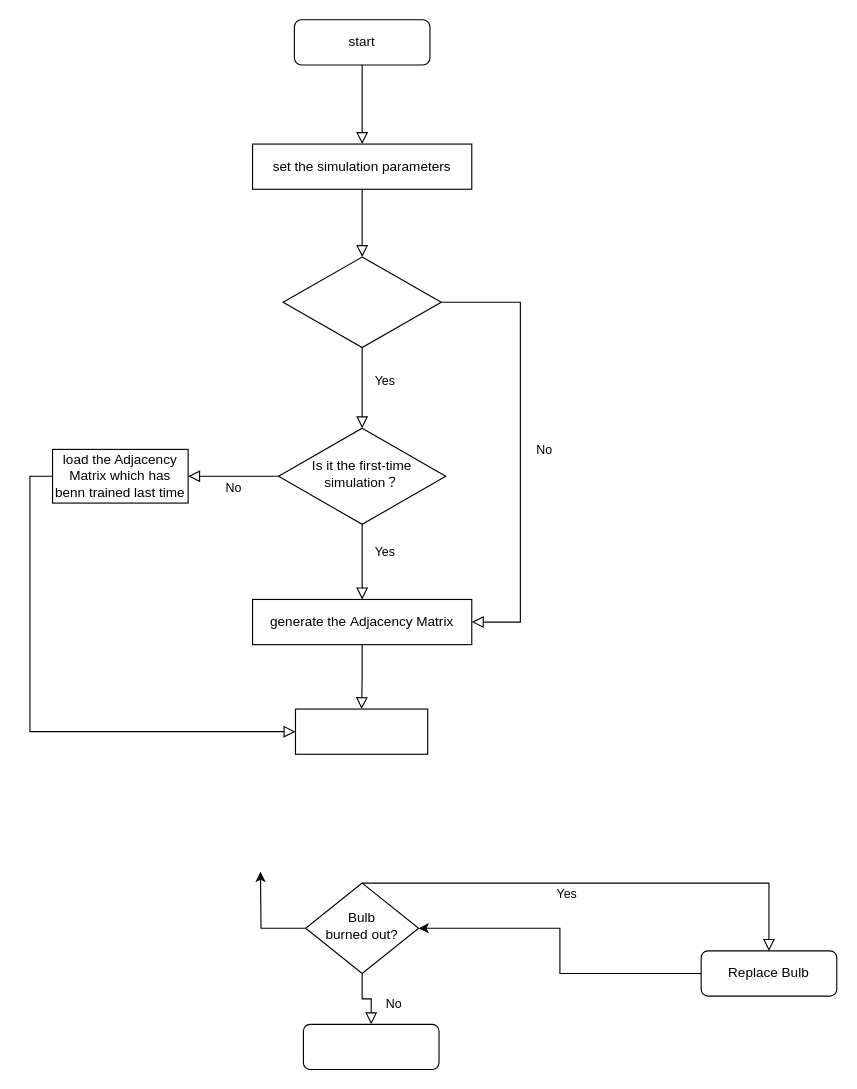
The diagram is 857 pixels wide and 1089 high, and some of its shapes have lost their labels. The shapes that lost their labels are listed below. From the top down, each one's box as (x1, y1, x2, y2) in pixels, then its label:
(282, 256, 441, 347): use STDP or not?
(294, 708, 428, 754): run the simulation
(302, 1023, 439, 1070): Repair Lamp
